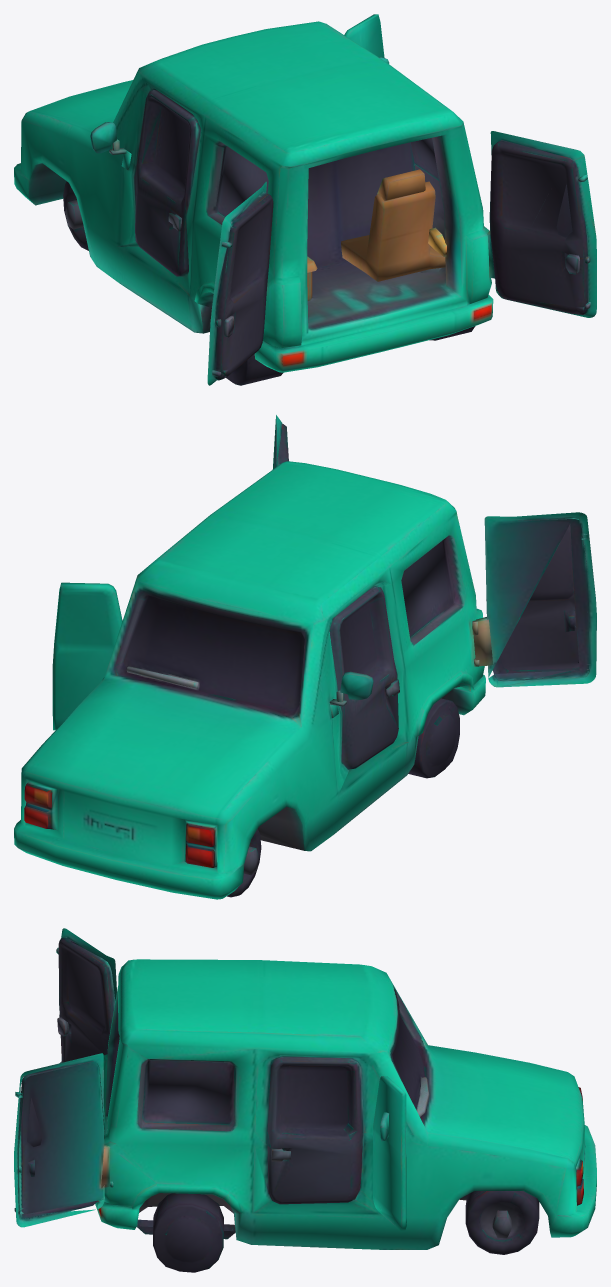
Rendered from Hub_Van.glb.
3 views of the same model, one above another, from view 1: azimuth 30°, elevation 25°; view 2: azimuth 150°, elevation 25°; view 3: azimuth 270°, elevation 25° (orthographic). The views are drawn at different scales.
Visible parts, largest first — view 1: tripo_node_9ba53372-4e7d-48cd-97df-92a2d73676ee; view 2: tripo_node_9ba53372-4e7d-48cd-97df-92a2d73676ee; view 3: tripo_node_9ba53372-4e7d-48cd-97df-92a2d73676ee.
Part boxes in pixels (x1,y1,x2,y2): tripo_node_9ba53372-4e7d-48cd-97df-92a2d73676ee: [14, 14, 596, 385]; tripo_node_9ba53372-4e7d-48cd-97df-92a2d73676ee: [14, 415, 596, 899]; tripo_node_9ba53372-4e7d-48cd-97df-92a2d73676ee: [14, 928, 596, 1272].
Bounding box in the file's own units: 0.6512 × 0.4314 × 1.
Materials: 1 (1 with a texture image).
